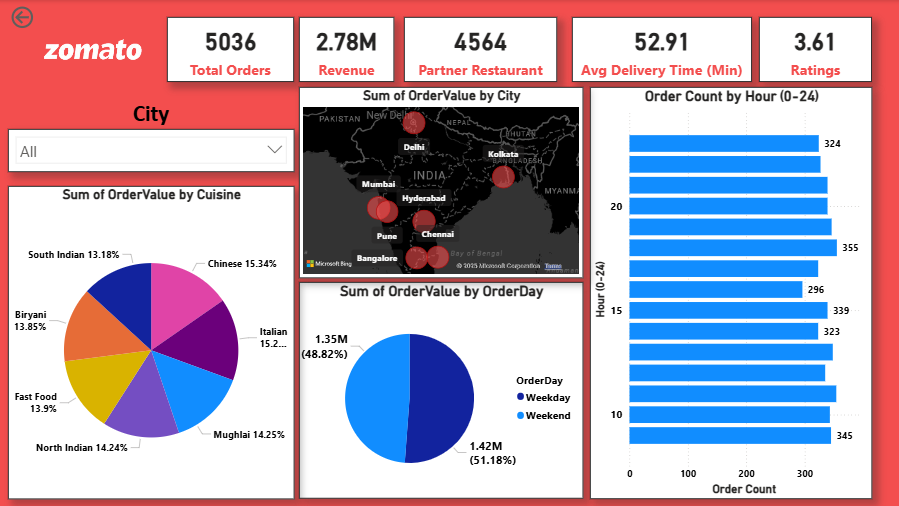

The dashboard page shown, as its layout file describes it:
{"tool":"powerbi","page":{"name":"Zomato","canvas":[1280,720],"ordinal":2},"visuals":[{"type":"slicer","fields":{"Values":["swiggy_vs_zomato_dummy_data.City"]},"box":[12.1,183.2,405.8,60.6],"z":0},{"type":"card","fields":{"Values":["CountNonNull(swiggy_vs_zomato_dummy_data.Platform)"]},"box":[237.7,24.2,180.2,92.4],"z":1000},{"type":"card","fields":{"Values":["Sum(swiggy_vs_zomato_dummy_data.OrderValue)"]},"box":[425.2,24.1,134.6,92.1],"z":2000},{"type":"card","fields":{"Values":["Count(swiggy_vs_zomato_dummy_data.Restaurant)"]},"box":[574,24.1,216.9,92.1],"z":3000},{"type":"card","fields":{"Values":["Avg(swiggy_vs_zomato_dummy_data.DeliveryTime)"]},"box":[812.1,24.1,255.1,92.1],"z":4000},{"type":"card","fields":{"Values":["Avg(swiggy_vs_zomato_dummy_data.CustomerRating)"]},"box":[1077.2,24.1,160.2,92.1],"z":5000},{"type":"textbox","box":[12.8,136.1,405.4,49.6],"z":6000},{"type":"pieChart","fields":{"Category":["swiggy_vs_zomato_dummy_data.OrderDay"],"Y":["Sum(swiggy_vs_zomato_dummy_data.OrderValue)"]},"box":[425.6,400,402.8,307.2],"z":7000},{"type":"barChart","fields":{"Category":["swiggy_vs_zomato_dummy_data.OrderHour"],"Y":["CountNonNull(swiggy_vs_zomato_dummy_data.OrderDay)"]},"box":[837.4,122.7,399.8,584.5],"z":8000},{"type":"pieChart","fields":{"Y":["Sum(swiggy_vs_zomato_dummy_data.OrderValue)"],"Category":["swiggy_vs_zomato_dummy_data.Cuisine"]},"box":[12.1,263.5,405.8,443.7],"z":9000},{"type":"map","fields":{"Category":["swiggy_vs_zomato_dummy_data.City"],"Size":["Sum(swiggy_vs_zomato_dummy_data.OrderValue)"]},"box":[425,122.8,402.8,271.1],"z":10000},{"type":"image","box":[51.4,14.9,163.6,112.2],"z":11000},{"type":"actionButton","box":[12.2,4.1,100,40.6],"z":12000}]}

Visuals, with their boxes in screenshot pixels (x1, y1, x2, y2), scaled from the page's 1280x720 canvas onto the 899x506 screenshot:
slicer - swiggy_vs_zomato_dummy_data.City: [8,129,294,171]
card - CountNonNull(swiggy_vs_zomato_dummy_data.Platform): [167,17,294,82]
card - Sum(swiggy_vs_zomato_dummy_data.OrderValue): [299,17,393,82]
card - Count(swiggy_vs_zomato_dummy_data.Restaurant): [403,17,555,82]
card - Avg(swiggy_vs_zomato_dummy_data.DeliveryTime): [570,17,750,82]
card - Avg(swiggy_vs_zomato_dummy_data.CustomerRating): [757,17,869,82]
textbox: [9,96,294,131]
pieChart - swiggy_vs_zomato_dummy_data.OrderDay x Sum(swiggy_vs_zomato_dummy_data.OrderValue): [299,281,582,497]
barChart - swiggy_vs_zomato_dummy_data.OrderHour x CountNonNull(swiggy_vs_zomato_dummy_data.OrderDay): [588,86,869,497]
pieChart - Sum(swiggy_vs_zomato_dummy_data.OrderValue) x swiggy_vs_zomato_dummy_data.Cuisine: [8,185,294,497]
map - swiggy_vs_zomato_dummy_data.City x Sum(swiggy_vs_zomato_dummy_data.OrderValue): [298,86,581,277]
image: [36,10,151,89]
actionButton: [9,3,79,31]
